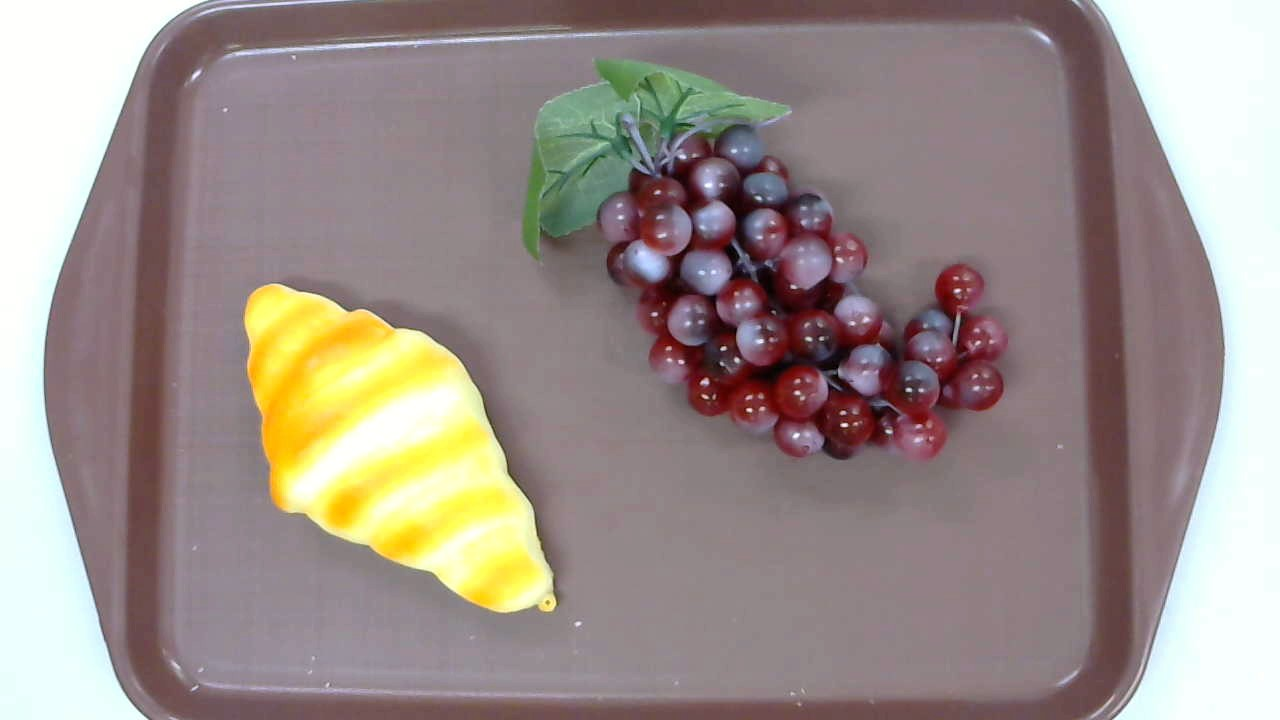croissant: (243, 282, 556, 613)
grape: (522, 55, 1008, 466)
